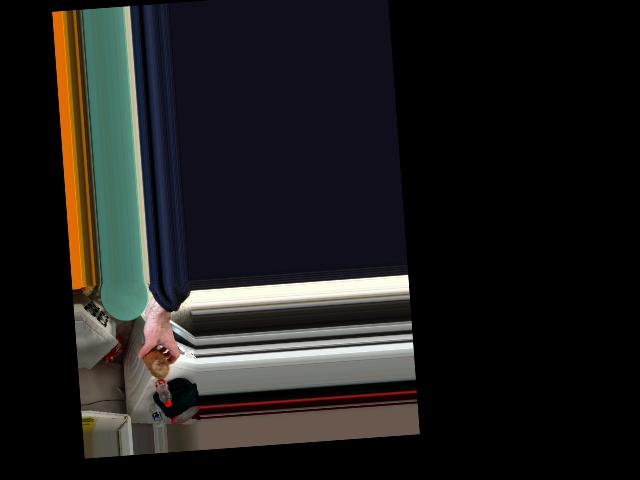sweet_potato: (136, 337, 171, 378)
